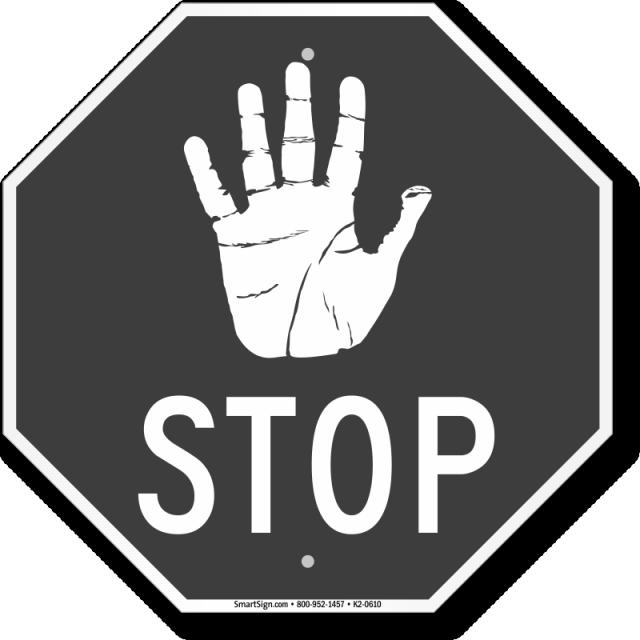Stop-sign: (0, 0, 629, 633)
